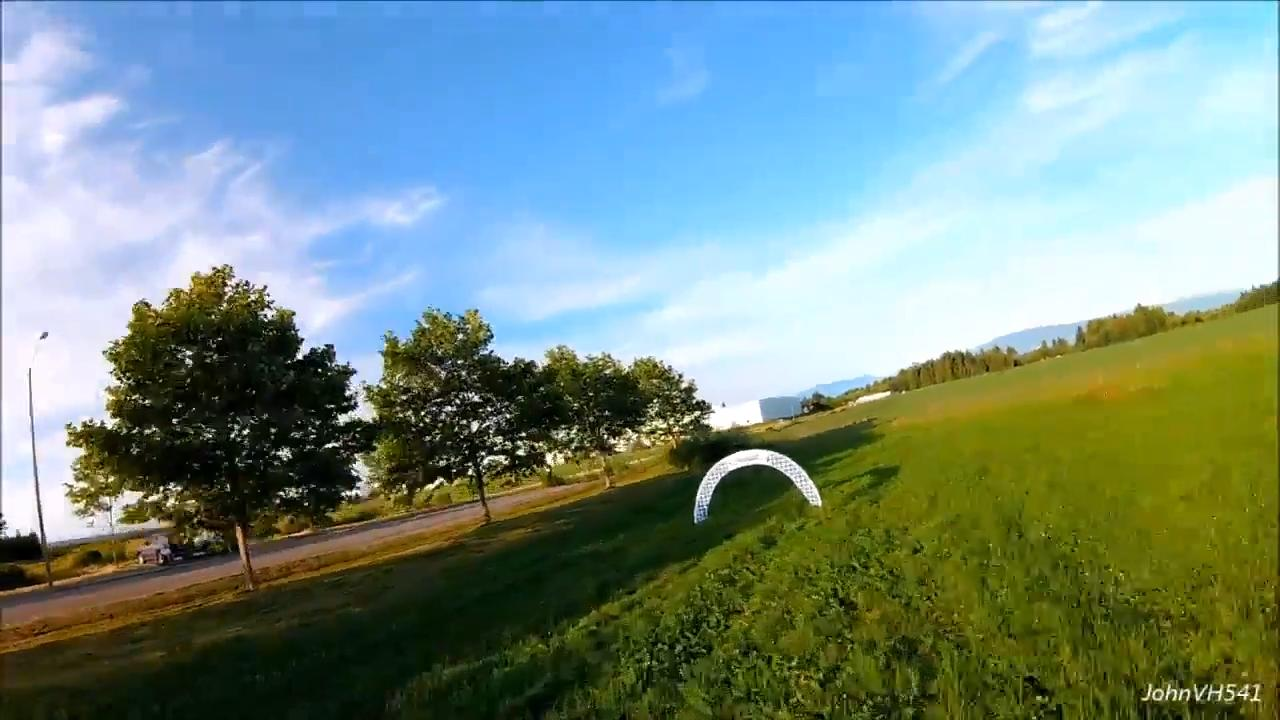gate: (691, 448, 827, 528)
